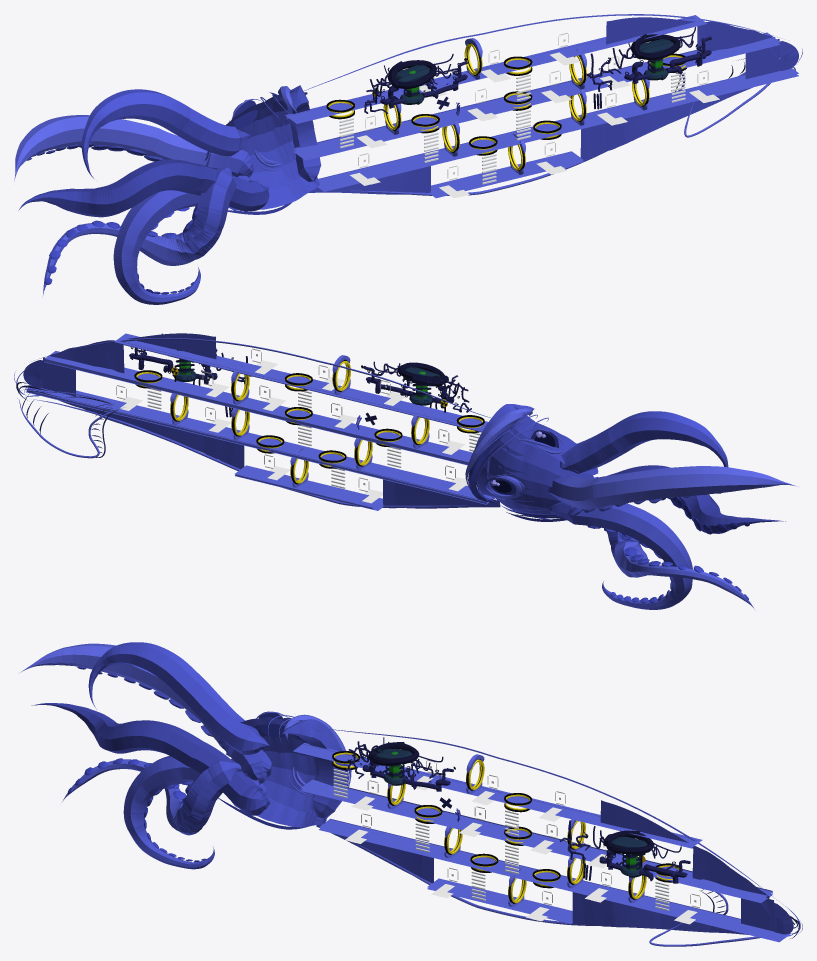
Rendered from Ship.fbx.
The picture shows the model from 3 angles, top to bottom: view 1: azimuth 30°, elevation 25°; view 2: azimuth 150°, elevation 25°; view 3: azimuth 330°, elevation 25°; orthographic projection. The views are drawn at different scales.
Visible parts, largest first — view 1: Lula, Rooms, Furos; view 2: Lula, Rooms, Furos; view 3: Lula, Rooms, Furos.
Boxes of the visible parts, x1,y1,x2,y2 form: Lula: [14, 14, 802, 304]; Rooms: [364, 27, 711, 115]; Furos: [350, 32, 719, 198]; Lula: [14, 333, 796, 609]; Rooms: [129, 333, 471, 429]; Furos: [116, 348, 468, 503]; Lula: [20, 642, 802, 946]; Rooms: [345, 737, 690, 883]; Furos: [345, 759, 700, 924].
Bounding box in the file's own units: 6.23 × 1.59 × 0.7905.
